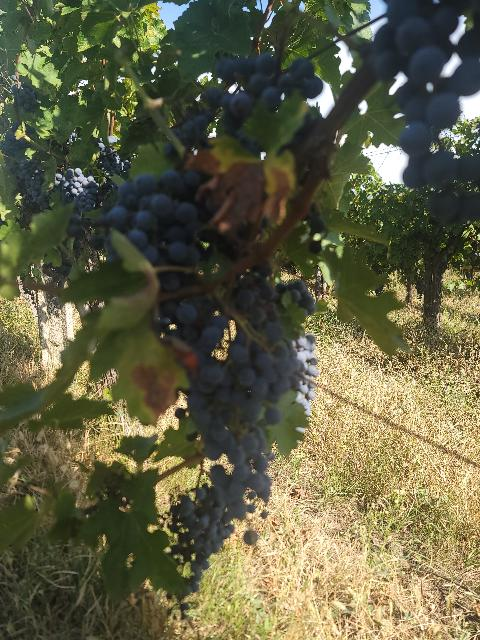grapes: (188, 342, 291, 499), (234, 265, 319, 415), (99, 170, 210, 268), (170, 485, 232, 590), (159, 300, 201, 340), (160, 271, 194, 292)
